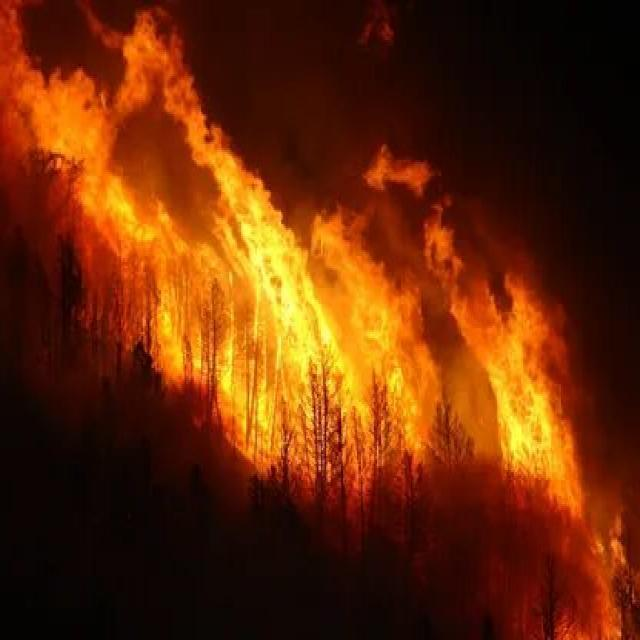Fire: (39, 102, 616, 514)
